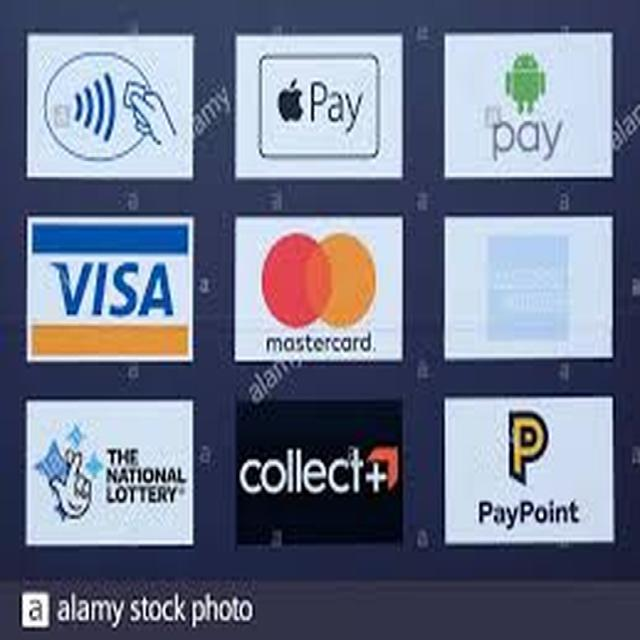card: (26, 31, 192, 181), (29, 218, 194, 367), (236, 38, 404, 181), (448, 43, 617, 183), (236, 404, 405, 542), (441, 226, 612, 356), (247, 217, 400, 355), (25, 409, 190, 536), (457, 402, 608, 540)
